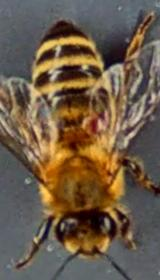varroa_mite: (78, 104, 110, 137)
